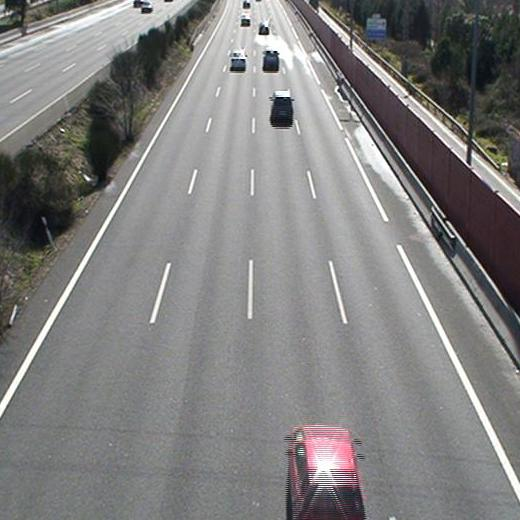car: (288, 427, 366, 519), (270, 91, 294, 127), (262, 49, 280, 71), (230, 50, 248, 71), (259, 23, 270, 35), (241, 15, 251, 26)
